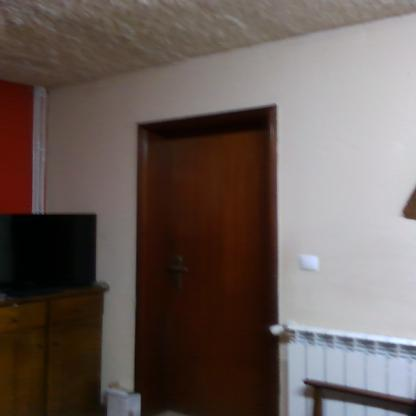door: (152, 134, 268, 416)
lever: (162, 264, 190, 275)
